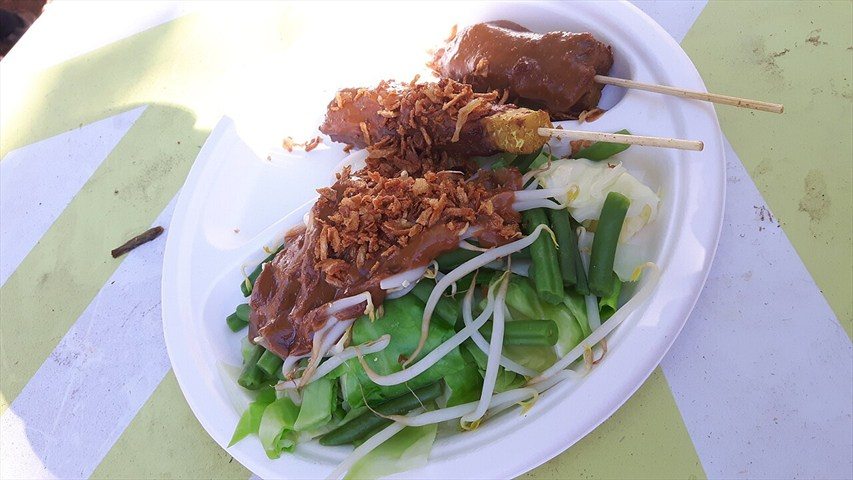Gado-Gado: (226, 51, 632, 433)
